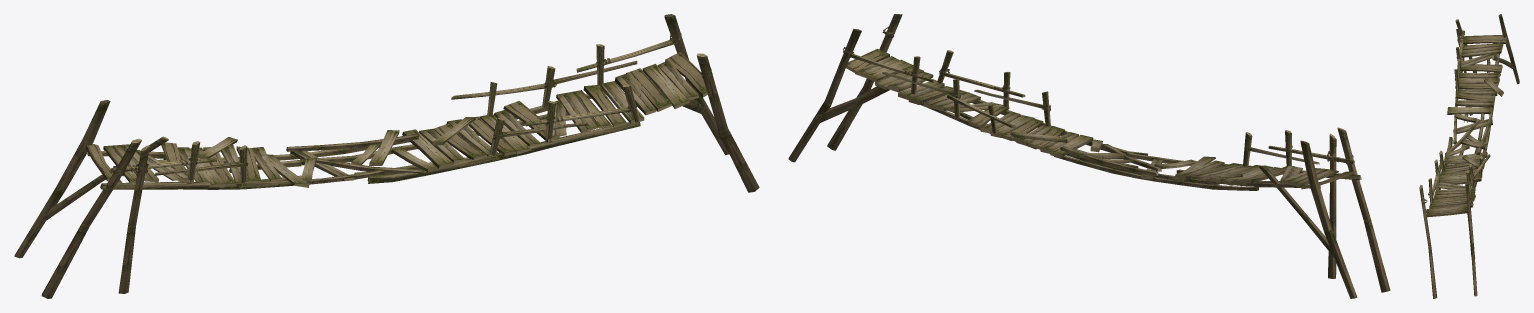
File: 5004_poqiao_1.FBX
3 renders of one model, left to right at view 1: azimuth 30°, elevation 25°; view 2: azimuth 150°, elevation 25°; view 3: azimuth 270°, elevation 25°, orthographic. The views are drawn at different scales.
Parts seen in each view (by area): view 1: 5004_poqiao_1; view 2: 5004_poqiao_1; view 3: 5004_poqiao_1.
Boxes of the visible parts, x1,y1,x2,y2 form: 5004_poqiao_1: [14, 14, 759, 298]; 5004_poqiao_1: [788, 14, 1390, 298]; 5004_poqiao_1: [1419, 14, 1519, 298].
Size of the model in its own units: 1371 by 370 by 295.
